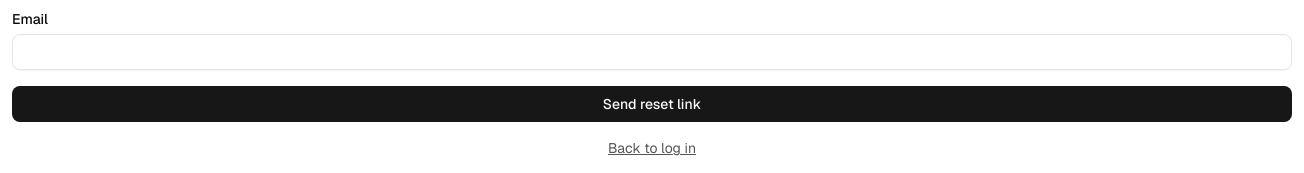
it: ForgotPasswordForm › F01_AC7_ShowsTheSameMessageAfterSubmit
Type "ghost@example.com" into the field labelled "Email" at [652, 52], box x1=12 y1=34 x2=1292 y2=70
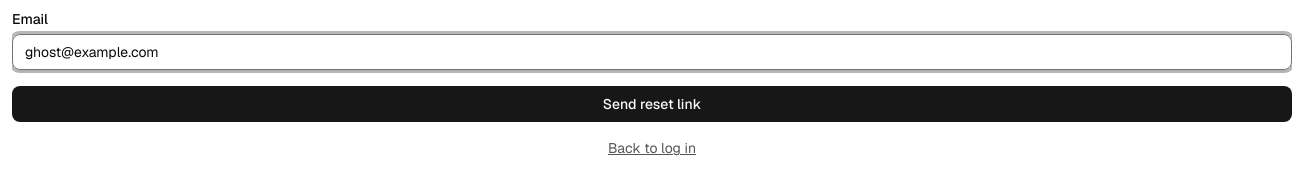
Click the button "Send reset link" at [652, 104], box x1=12 y1=86 x2=1292 y2=122
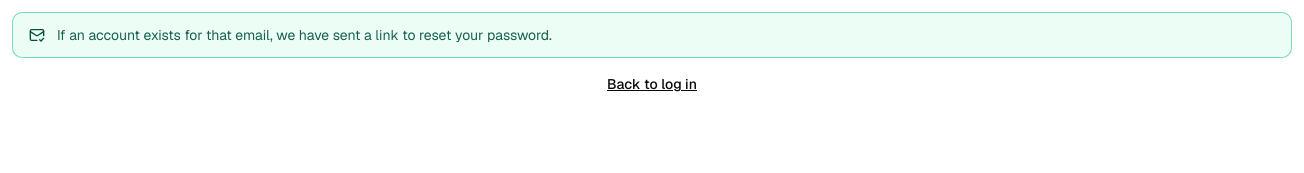
Expected: the text "If an account exists for that email, we have sent a link to reset your password." is shown, x1=57 y1=26 x2=552 y2=44
